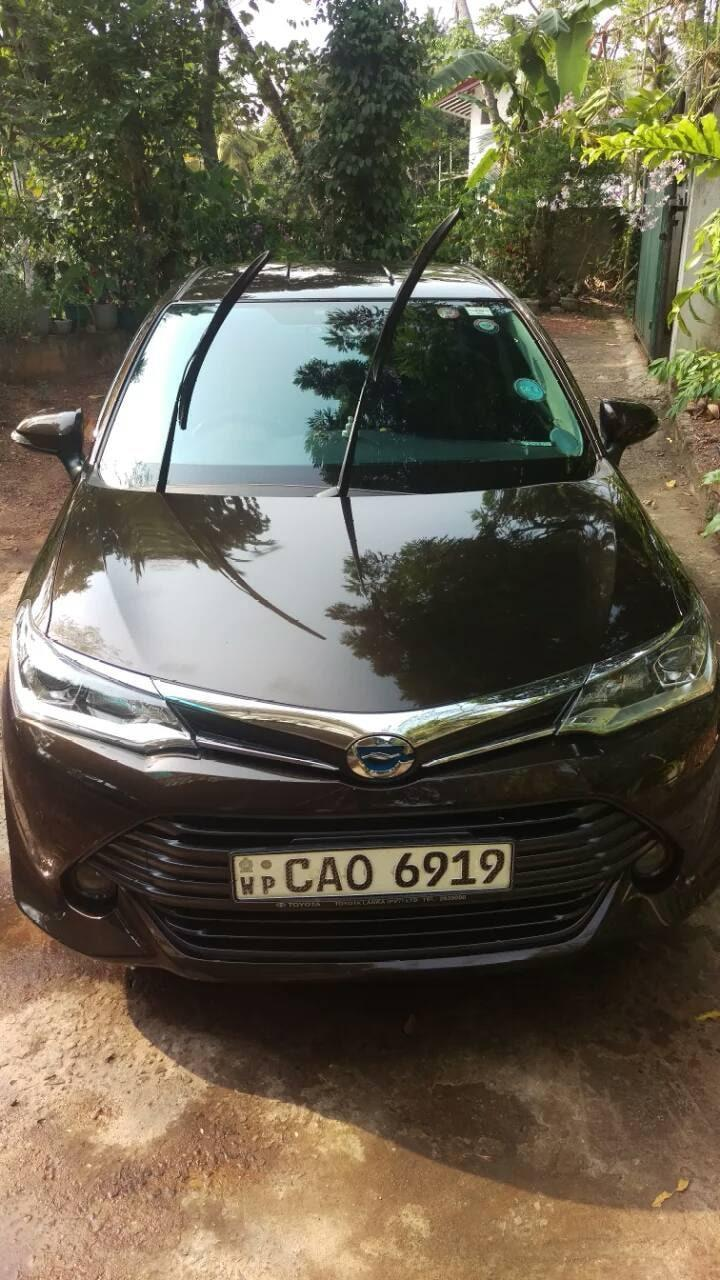license-plate: (229, 848, 514, 899)
